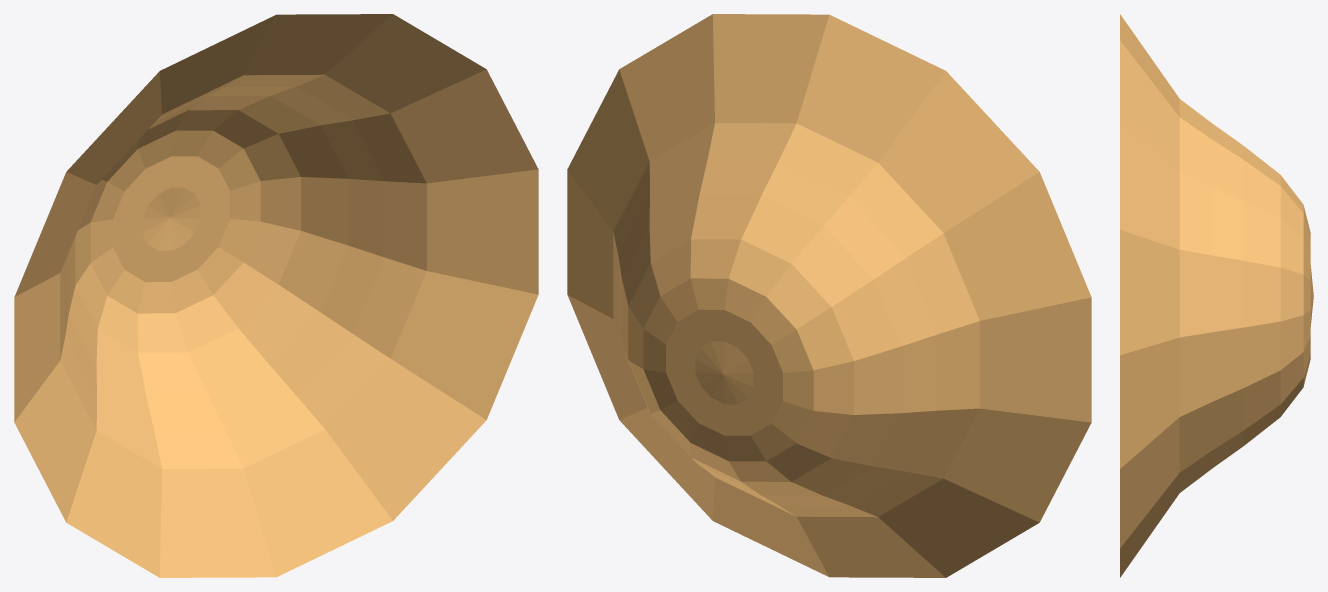
Rendered from Sand_Pile.fbx.
3 views of the same model, side by side, from view 1: azimuth 30°, elevation 25°; view 2: azimuth 150°, elevation 25°; view 3: azimuth 270°, elevation 25° (orthographic). The views are drawn at different scales.
Parts seen in each view (by area): view 1: Sphere; view 2: Sphere; view 3: Sphere.
Boxes of the visible parts, <box> form: Sphere: <box>14,14,538,577</box>; Sphere: <box>567,14,1091,577</box>; Sphere: <box>1120,14,1313,577</box>.
Bounding box in the file's own units: 351 × 360 × 124.
